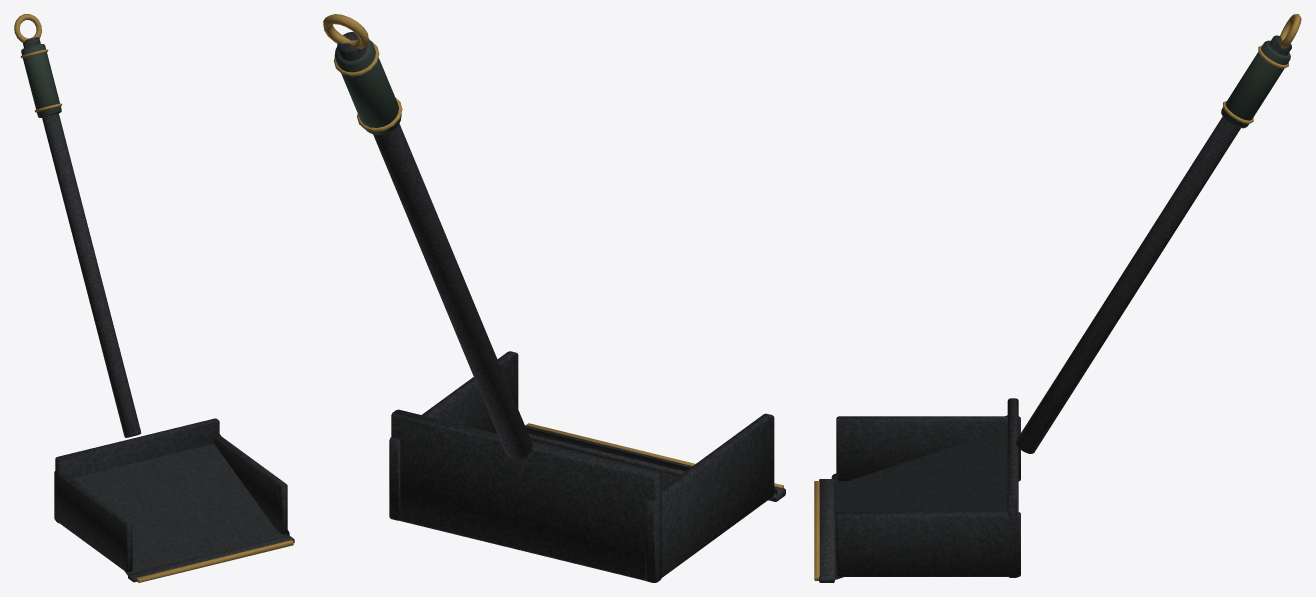
Rendered from asset_075_dustpan_fp.glb.
3 views of the same model, side by side, from view 1: azimuth 30°, elevation 25°; view 2: azimuth 150°, elevation 25°; view 3: azimuth 270°, elevation 25° (orthographic). The views are drawn at different scales.
Parts seen in each view (by area): view 1: MESH_DustpanFloor, MESH_DustpanHandle, MESH_DustpanBack, MESH_DustpanWallL, MESH_DustpanWallR, MESH_DustpanHandleGrip, MESH_DustpanLip, MESH_DustpanLipStrip, MESH_DustpanHangLoop; view 2: MESH_DustpanBack, MESH_DustpanWallL, MESH_DustpanHandle, MESH_DustpanWallR, MESH_DustpanHandleGrip, MESH_DustpanLip, MESH_DustpanFloor, MESH_DustpanHangLoop, MESH_DustpanLipStrip; view 3: MESH_DustpanWallR, MESH_DustpanFloor, MESH_DustpanHandle, MESH_DustpanWallL, MESH_DustpanHandleGrip, MESH_DustpanBack, MESH_DustpanLip.
Boxes of the visible parts, box(x1,y1,x2,y2) form: MESH_DustpanFloor: box(72, 434, 289, 575); MESH_DustpanHandle: box(23, 37, 141, 437); MESH_DustpanBack: box(55, 418, 219, 523); MESH_DustpanWallL: box(54, 471, 132, 572); MESH_DustpanWallR: box(214, 435, 287, 534); MESH_DustpanHandleGrip: box(21, 44, 61, 117); MESH_DustpanLip: box(128, 535, 294, 582); MESH_DustpanLipStrip: box(137, 540, 293, 582); MESH_DustpanHangLoop: box(14, 14, 41, 42); MESH_DustpanBack: box(391, 409, 661, 582); MESH_DustpanWallL: box(645, 413, 774, 582); MESH_DustpanHandle: box(337, 32, 532, 459); MESH_DustpanWallR: box(389, 351, 518, 520); MESH_DustpanHandleGrip: box(334, 39, 401, 135); MESH_DustpanLip: box(525, 425, 785, 501); MESH_DustpanFloor: box(526, 427, 777, 499); MESH_DustpanHangLoop: box(323, 14, 368, 49); MESH_DustpanLipStrip: box(526, 423, 783, 488); MESH_DustpanWallR: box(836, 512, 1020, 576); MESH_DustpanFloor: box(831, 415, 1007, 579); MESH_DustpanHandle: box(1015, 35, 1291, 453); MESH_DustpanWallL: box(836, 416, 1020, 481); MESH_DustpanHandleGrip: box(1221, 40, 1290, 128); MESH_DustpanBack: box(1007, 398, 1018, 577); MESH_DustpanLip: box(819, 479, 834, 582).
Bounding box in the file's own units: 0.3 × 0.7271 × 0.62.
Materials: 4 (4 with a texture image).
